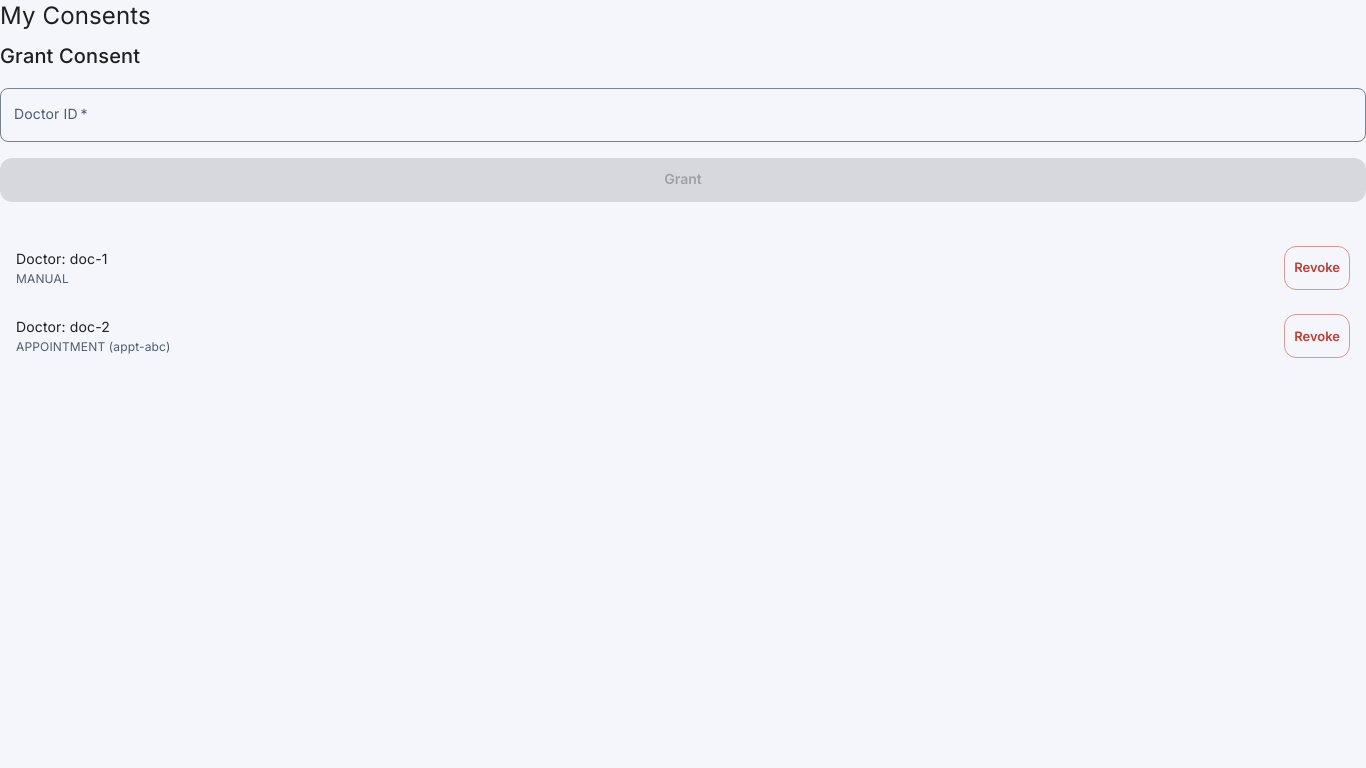
Test case: ConsentPage › SR-036.4: revoking one grant does not remove the other
The width and height of the screenshot is (1366, 768).
Expected: the text "Doctor: doc-1" is shown, [16,250,108,266]
What coordinates should you click on to do the following:
click the button "Revoke" in the row of "Doctor: doc-1"
I would click on:
 (1317, 268)
Its box is [1284,246,1350,290].
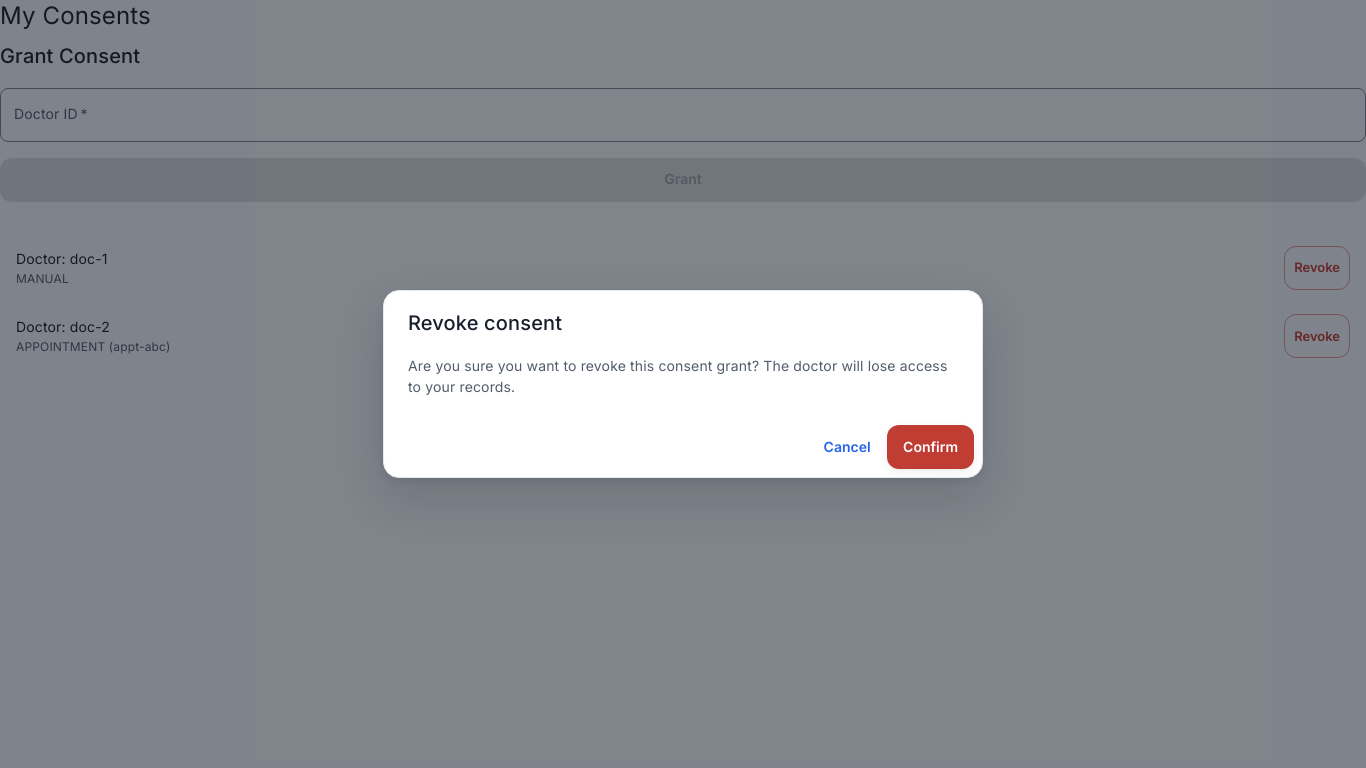
What coordinates should you click on to do the following:
click the button "Confirm"
I would click on:
 (931, 447)
Its box is [887,425,974,469].
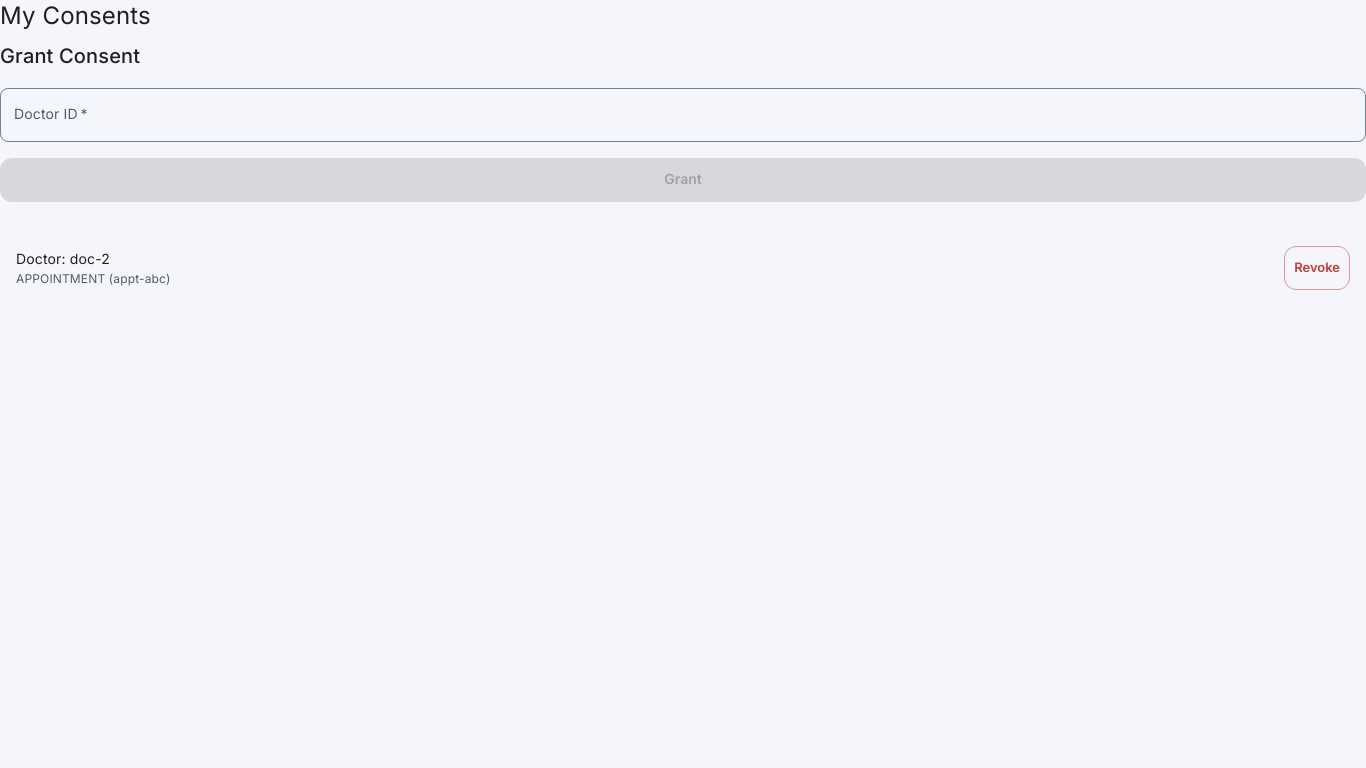
Expected: the text "Doctor: doc-2" is shown, [16,250,110,266]
Expected: the text "Doctor: doc-1" is gone
